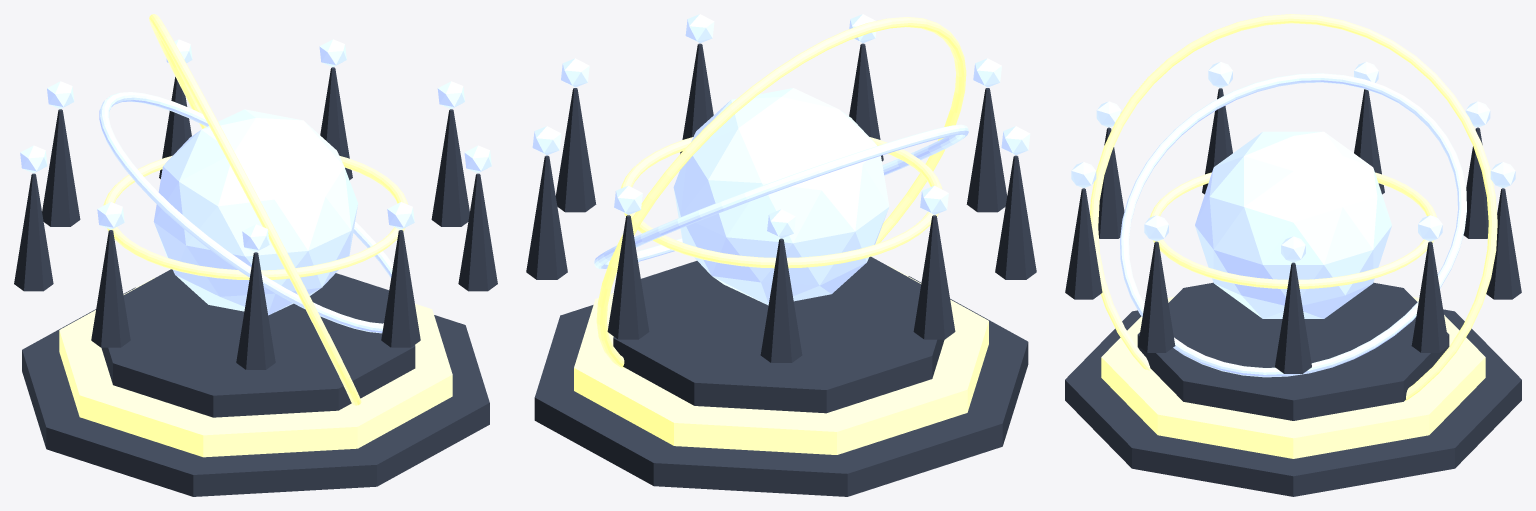
Rendered from gpu-blender-v29.glb.
3 views of the same model, side by side, from view 1: azimuth 30°, elevation 25°; view 2: azimuth 150°, elevation 25°; view 3: azimuth 270°, elevation 25° (orthographic). The views are drawn at different scales.
Parts seen in each view (by area): view 1: Cylinder.002, SovereignCore_pod-margin-sentinel, Cylinder, Cylinder.001, Torus.001, Torus.002, Torus, Cone.004, Cone.008, Cone.005, Cone.007, Cone.006 (+12 smaller); view 2: Cylinder.002, SovereignCore_pod-margin-sentinel, Cylinder, Cylinder.001, Torus.002, Torus.001, Torus, Cone.002, Cone.004, Cone, Cone.001, Cone.005 (+12 smaller); view 3: SovereignCore_pod-margin-sentinel, Cylinder.002, Cylinder, Cylinder.001, Torus.002, Torus.001, Torus, Cone.007, Cone.001, Cone.008, Cone, Cone.002 (+10 smaller).
Boxes of the visible parts, box(x1,y1,x2,y2) form: Cylinder.002: box(101, 269, 415, 417); SovereignCore_pod-margin-sentinel: box(153, 109, 358, 315); Cylinder: box(22, 287, 489, 496); Cylinder.001: box(59, 277, 452, 457); Torus.001: box(99, 92, 393, 333); Torus.002: box(149, 14, 361, 405); Torus: box(103, 155, 408, 279); Cone.004: box(14, 173, 53, 291); Cone.008: box(458, 173, 497, 291); Cone.005: box(91, 230, 130, 347); Cone.007: box(381, 230, 420, 347); Cone.006: box(236, 252, 275, 369); Cylinder.002: box(613, 256, 944, 413); SovereignCore_pod-margin-sentinel: box(673, 88, 889, 305); Cylinder: box(534, 276, 1028, 496); Cylinder.001: box(574, 265, 988, 454); Torus.002: box(596, 17, 966, 367); Torus.001: box(594, 124, 968, 269); Torus: box(621, 137, 942, 268); Cone.002: box(607, 215, 649, 339); Cone.004: box(913, 215, 955, 339); Cone: box(555, 88, 596, 212); Cone.001: box(526, 155, 567, 279); Cone.005: box(995, 155, 1036, 279); SovereignCore_pod-margin-sentinel: box(1195, 131, 1391, 318); Cylinder.002: box(1137, 282, 1449, 420); Cylinder: box(1065, 309, 1521, 496); Cylinder.001: box(1101, 296, 1485, 458); Torus.002: box(1090, 14, 1497, 400); Torus.001: box(1120, 73, 1466, 377); Torus: box(1150, 172, 1436, 288); Cone.007: box(1065, 188, 1102, 299); Cone.001: box(1411, 241, 1448, 352); Cone.008: box(1138, 241, 1175, 352); Cone: box(1275, 262, 1311, 373); Cone.002: box(1486, 188, 1521, 299).
Size of the model in its own units: 4.41 by 3.72 by 4.4.
